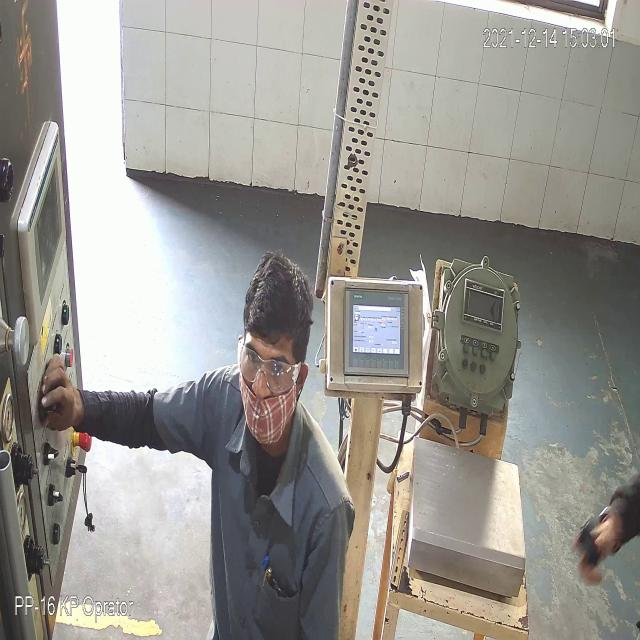glasses: (240, 345, 304, 391)
